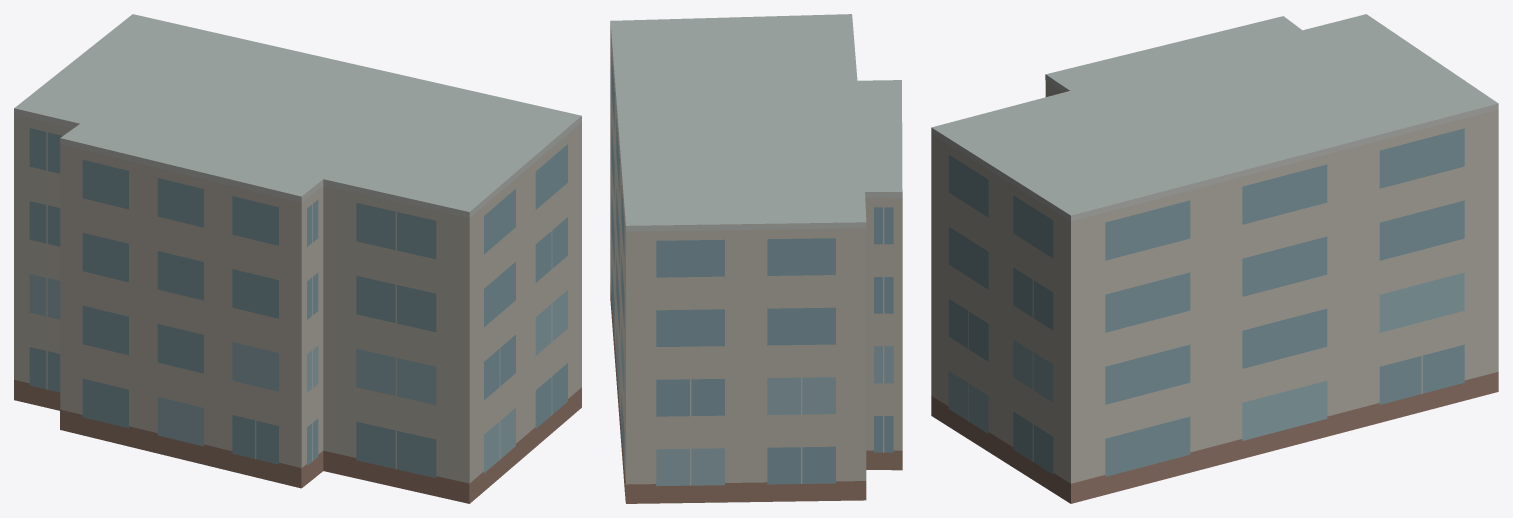
Rendered from survey-upis-32812421.glb.
The picture shows the model from 3 angles, left to right: view 1: azimuth 30°, elevation 25°; view 2: azimuth 150°, elevation 25°; view 3: azimuth 270°, elevation 25°; orthographic projection. The views are drawn at different scales.
Visible parts, largest first — view 1: survey-upis-32812421.tmp; view 2: survey-upis-32812421.tmp; view 3: survey-upis-32812421.tmp.
Boxes of the visible parts, x1=… form: survey-upis-32812421.tmp: x1=14, y1=14, x2=581, y2=503; survey-upis-32812421.tmp: x1=610, y1=14, x2=902, y2=503; survey-upis-32812421.tmp: x1=931, y1=14, x2=1498, y2=503.
Bounding box in the file's own units: 17.55 × 11.7 × 20.88.
